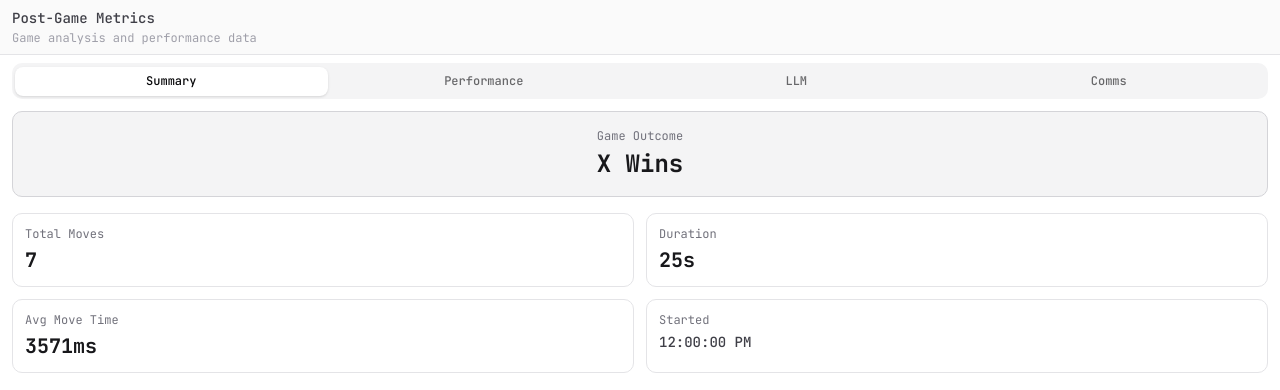
Test case: PostGameMetrics › tabs › switches to Communication tab when clicked
What coordinates should you click on to do the following:
click the tab "Comms"
I would click on:
 (1109, 81)
Its box is [952,66,1265,96].
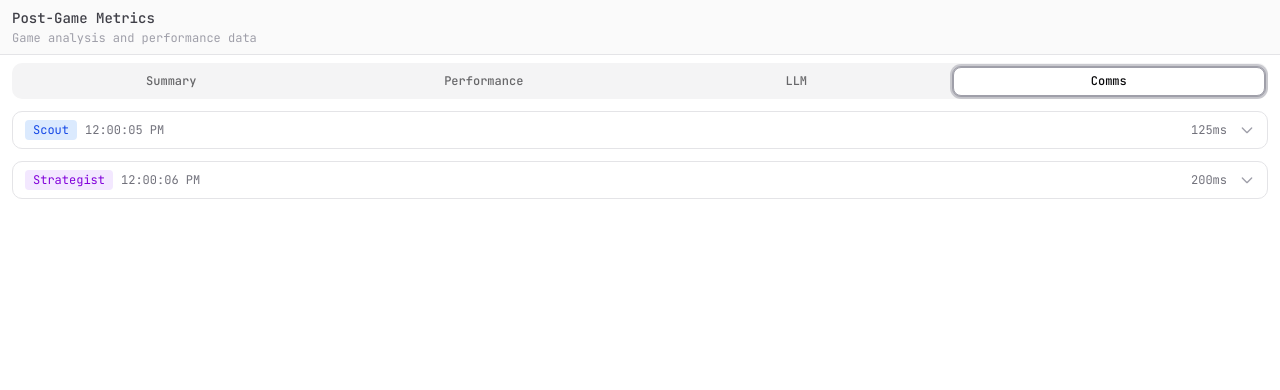
expect the text "125ms" is shown: met, box [1191,122,1227,138]
